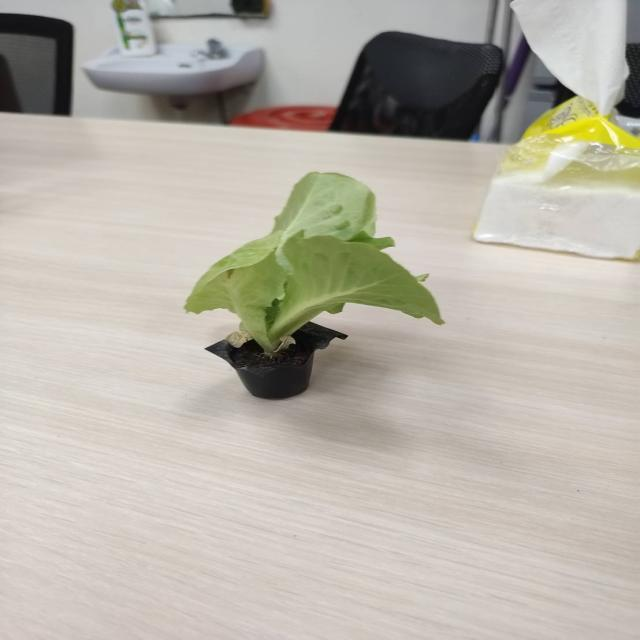Lettuce-Not-Ready-to-Harvest: (185, 172, 443, 354)
